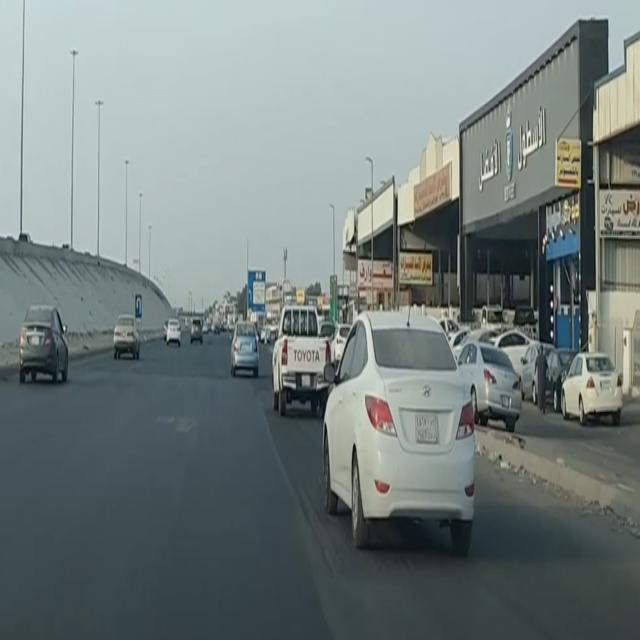license_plate: (415, 413, 438, 446), (301, 374, 311, 388), (502, 396, 511, 409), (32, 336, 40, 346), (243, 344, 250, 354), (122, 332, 125, 338), (195, 328, 198, 332), (173, 330, 175, 332)
